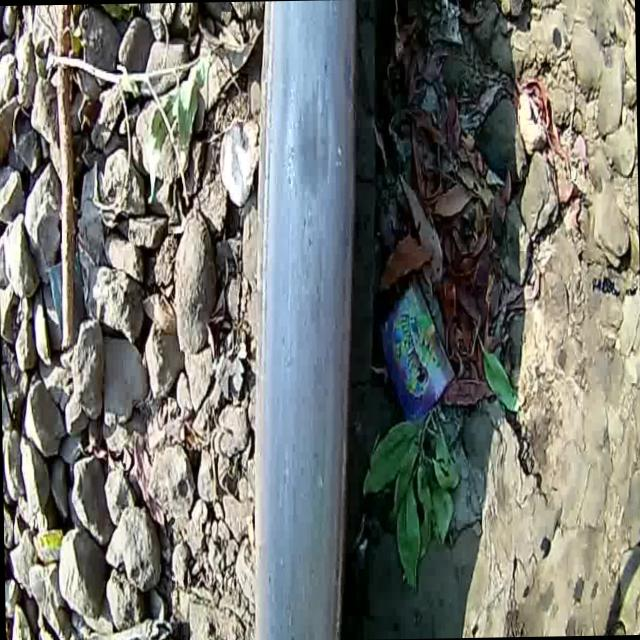Squats: (218, 0, 393, 640)
